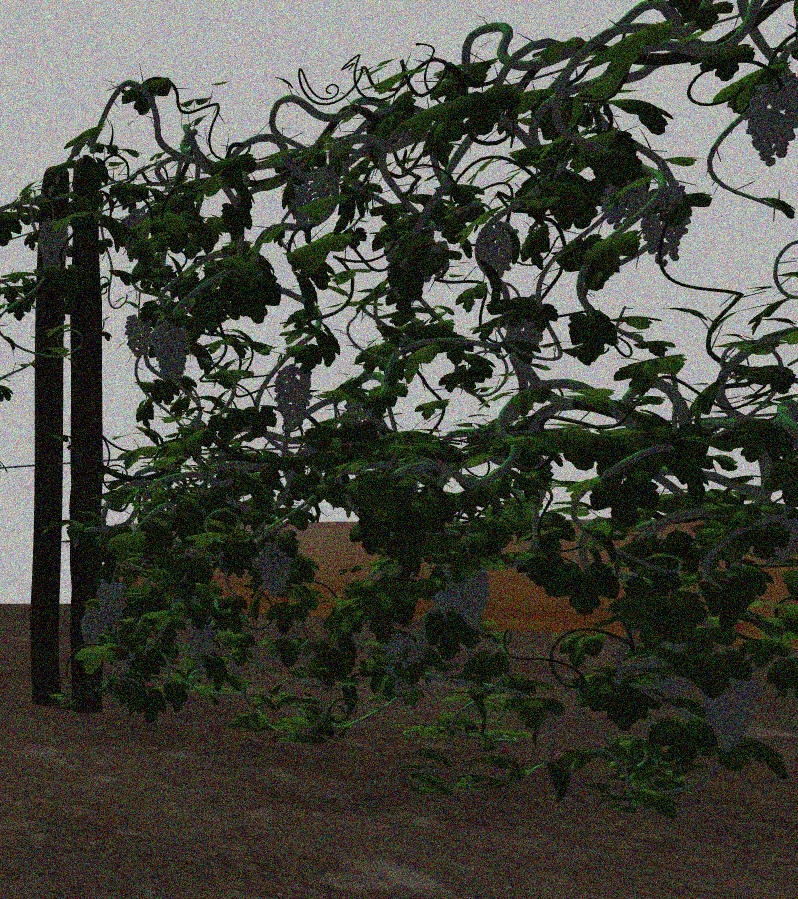grape: (705, 671, 760, 752), (745, 82, 796, 168), (642, 184, 690, 266), (445, 565, 492, 625), (274, 362, 312, 428), (152, 322, 189, 386), (476, 221, 514, 279), (258, 540, 296, 597), (600, 182, 642, 230), (385, 626, 427, 668), (37, 219, 69, 269), (96, 578, 128, 622), (124, 313, 154, 358), (185, 622, 217, 658), (80, 608, 107, 647)
